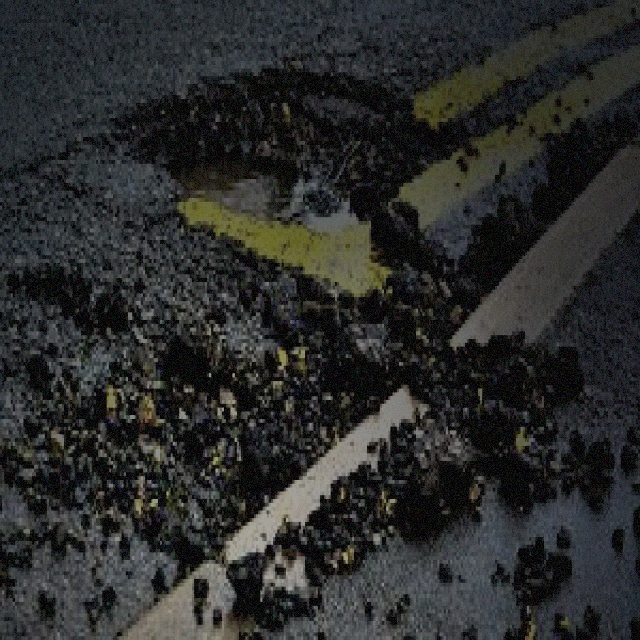pothole: (134, 76, 388, 309)
